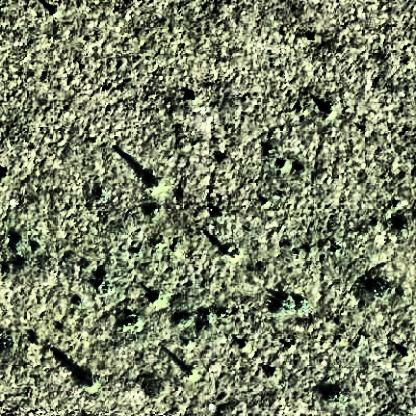tree-top: (271, 291, 308, 318), (368, 276, 394, 300), (81, 373, 104, 398), (142, 173, 167, 196), (326, 382, 349, 405), (223, 241, 243, 262), (323, 99, 344, 116)
